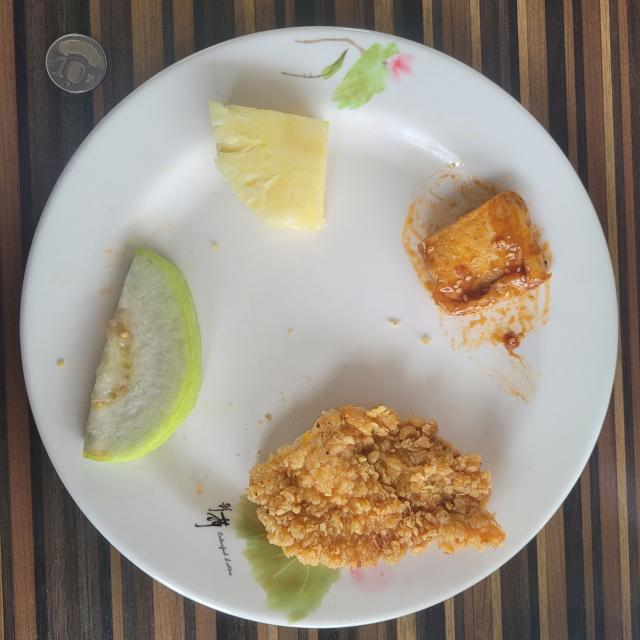coin: (45, 34, 106, 94)
creamy tofu: (419, 191, 549, 315)
fried chicken cutlet: (246, 405, 505, 569)
guava -sliced-: (84, 249, 202, 461)
pineapple: (209, 101, 329, 230)
